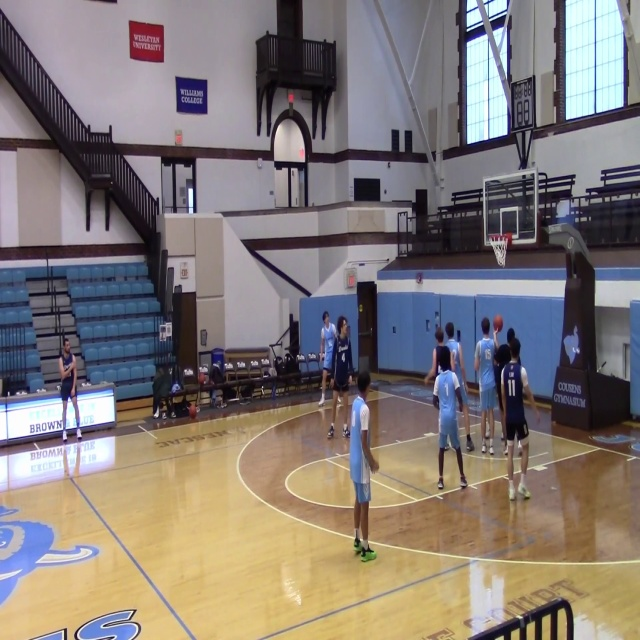Basketball: (493, 315, 503, 332), (481, 318, 490, 332), (445, 322, 454, 335), (435, 329, 443, 340)
